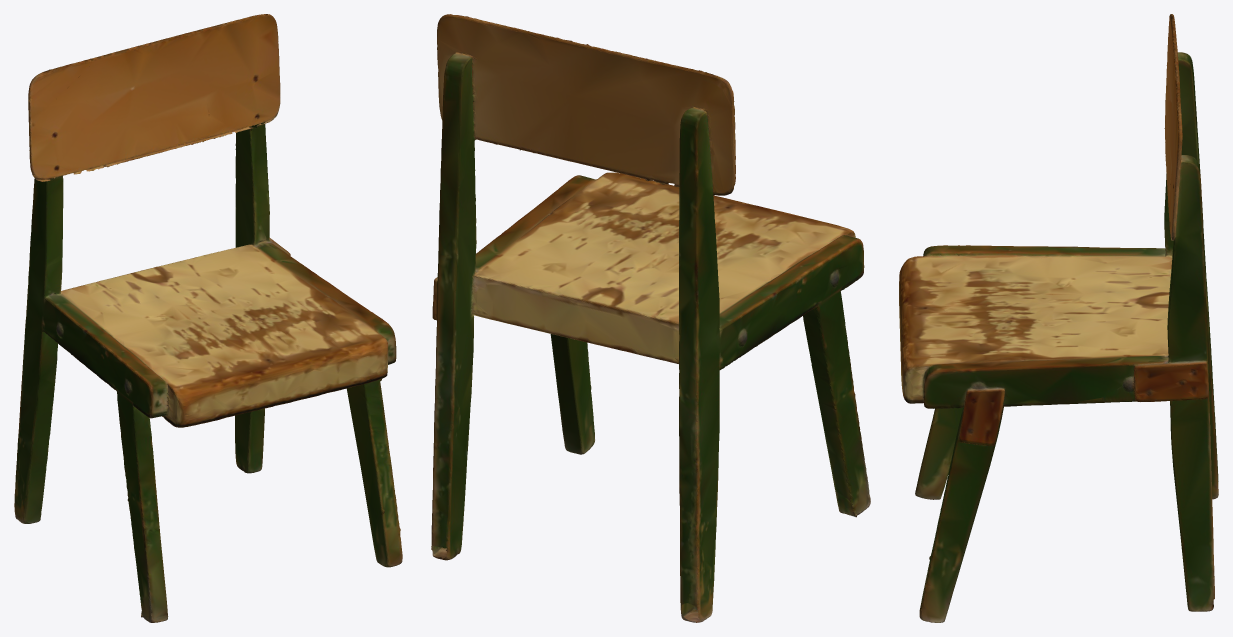
The model's file is stool4.glb.
3 renders of one model, left to right at view 1: azimuth 30°, elevation 25°; view 2: azimuth 150°, elevation 25°; view 3: azimuth 270°, elevation 25°, orthographic. The views are drawn at different scales.
Parts seen in each view (by area): view 1: stool2.001; view 2: stool2.001; view 3: stool2.001.
Part boxes in pixels (<box>): stool2.001: <box>14,14,402,622</box>; stool2.001: <box>431,14,870,622</box>; stool2.001: <box>899,14,1218,622</box>.
Bounding box in the file's own units: 0.3031 × 0.5284 × 0.3143.
Materials: 1 (1 with a texture image).
